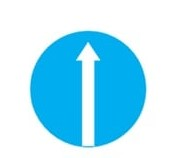Go_straight: (28, 29, 150, 150)
